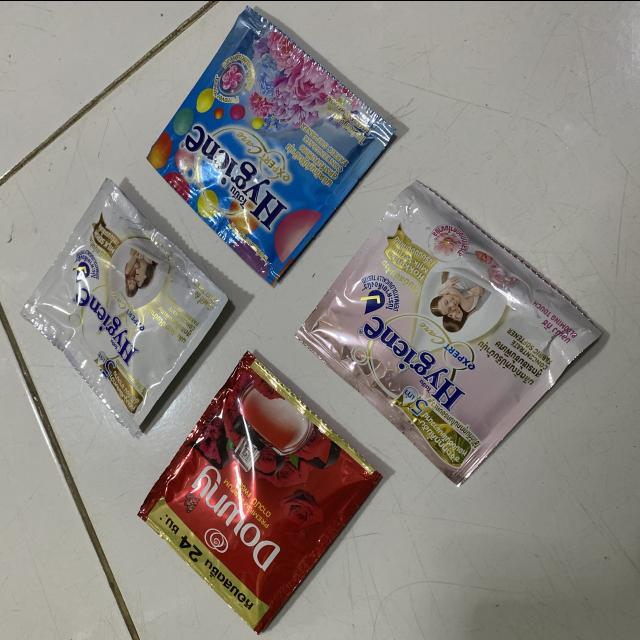plastik: (298, 182, 602, 484), (148, 6, 394, 285), (139, 353, 380, 632), (22, 178, 227, 434)
